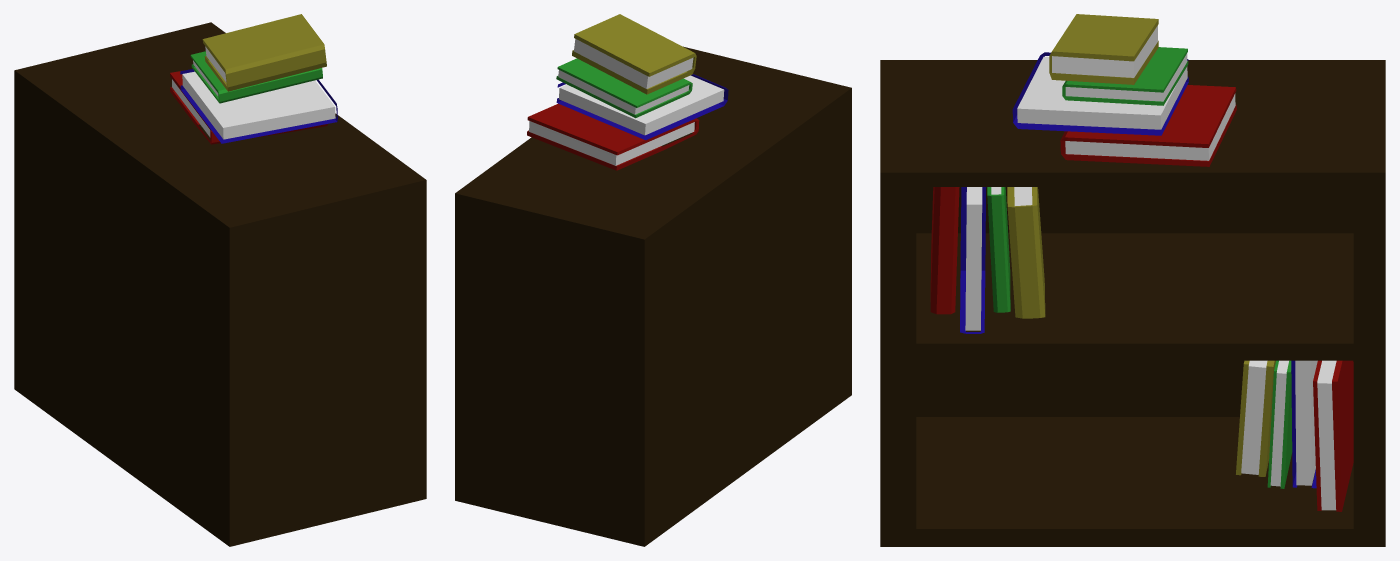
File: Libreria para proyecto.fbx
The picture shows the model from 3 angles, left to right: view 1: azimuth 30°, elevation 25°; view 2: azimuth 150°, elevation 25°; view 3: azimuth 270°, elevation 25°; orthographic projection. The views are drawn at different scales.
Parts seen in each view (by area): view 1: Cube, Cube.011; view 2: Cube, Cube.011; view 3: Cube, Cube.011, Cube.007, Cube.001.
Boxes of the visible parts, x1,y1,x2,y2 form: Cube: [14, 22, 426, 546]; Cube.011: [170, 14, 337, 144]; Cube: [455, 46, 851, 546]; Cube.011: [527, 14, 728, 170]; Cube: [880, 60, 1385, 546]; Cube.011: [1012, 14, 1236, 166]; Cube.007: [1236, 360, 1353, 511]; Cube.001: [930, 187, 1045, 333].
Size of the model in its own units: 200 by 398 by 379.
